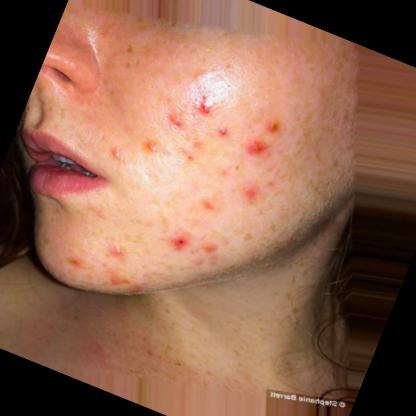Acne: (237, 129, 285, 170), (189, 184, 229, 224), (161, 220, 201, 260), (158, 100, 196, 138), (254, 109, 292, 147), (204, 110, 240, 150), (100, 232, 136, 272), (186, 87, 224, 124), (232, 175, 266, 211), (136, 132, 169, 166), (60, 249, 91, 279), (100, 138, 130, 167)
